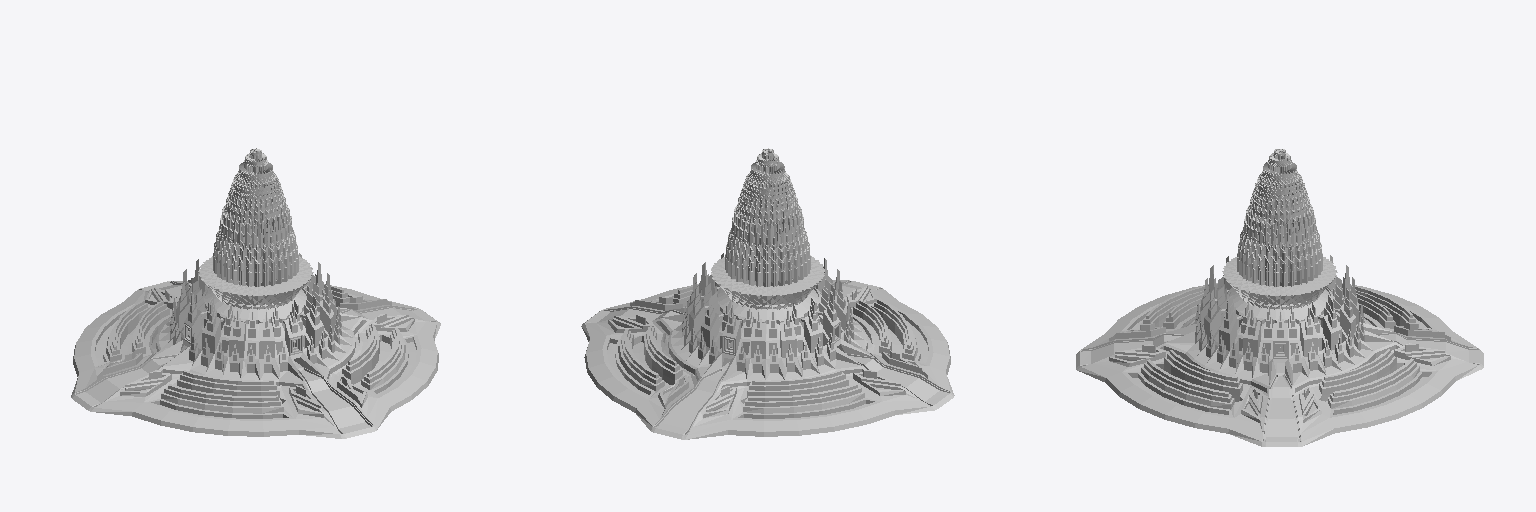
The model's file is Sphere Drone .obj.
The picture shows the model from 3 angles: view 1: azimuth 30°, elevation 25°; view 2: azimuth 150°, elevation 25°; view 3: azimuth 270°, elevation 25°; orthographic projection.
Visible parts, largest first — view 1: Temple; view 2: Temple; view 3: Temple.
Boxes of the visible parts, x1=… form: Temple: x1=71, y1=148, x2=440, y2=438; Temple: x1=581, y1=148, x2=954, y2=439; Temple: x1=1076, y1=149, x2=1483, y2=446.
Size of the model in its own units: 21.34 by 12.11 by 21.34.